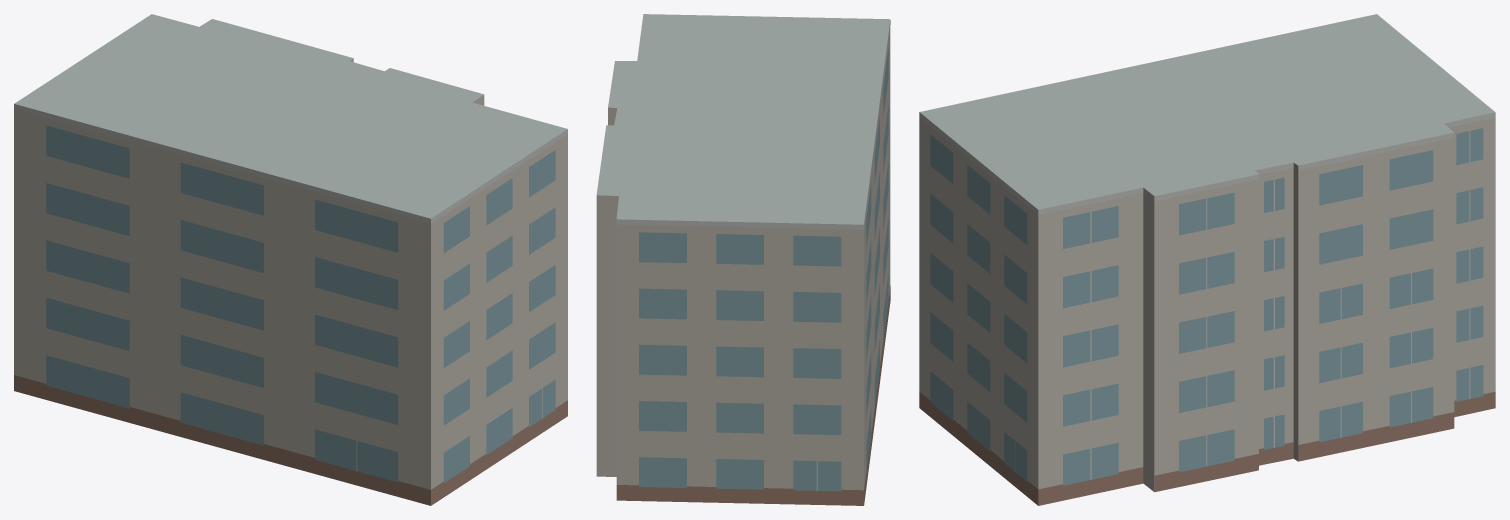
Rendered from survey-upis-32939357.glb.
The picture shows the model from 3 angles, left to right: view 1: azimuth 30°, elevation 25°; view 2: azimuth 150°, elevation 25°; view 3: azimuth 270°, elevation 25°; orthographic projection. The views are drawn at different scales.
Parts seen in each view (by area): view 1: survey-upis-32939357.tmp; view 2: survey-upis-32939357.tmp; view 3: survey-upis-32939357.tmp.
Part boxes in pixels (left/top/right/bottom): survey-upis-32939357.tmp: left=14, top=14, right=567, bottom=505; survey-upis-32939357.tmp: left=596, top=14, right=890, bottom=505; survey-upis-32939357.tmp: left=919, top=14, right=1495, bottom=505.
Bounding box in the file's own units: 19.31 × 13.6 × 24.
